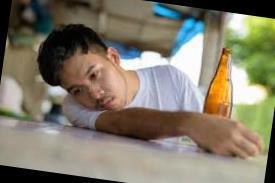Drunk: (64, 56, 122, 111)
